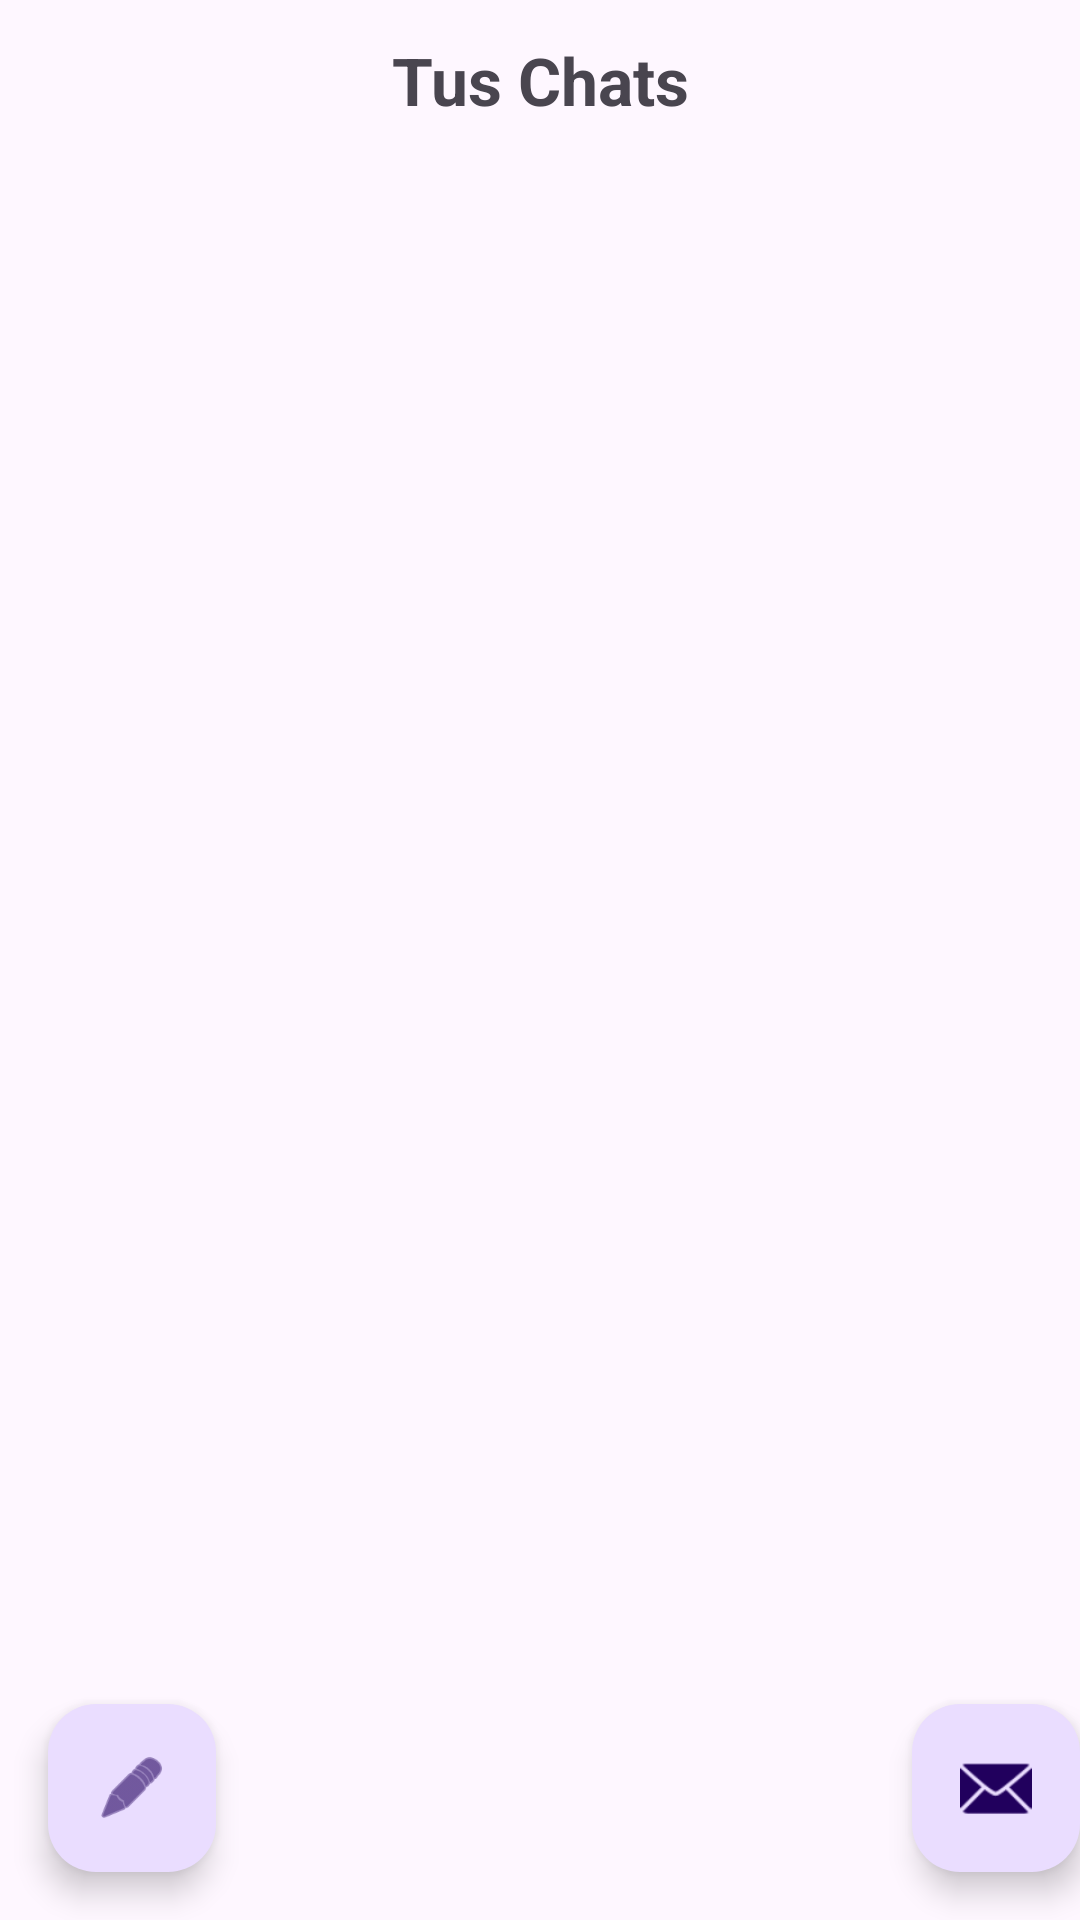

Where to tap for icons on this 1080w x 1920h app screen, as [x,y]:
Editar perfil: [132,1788]
Nuevo chat: [996,1788]
